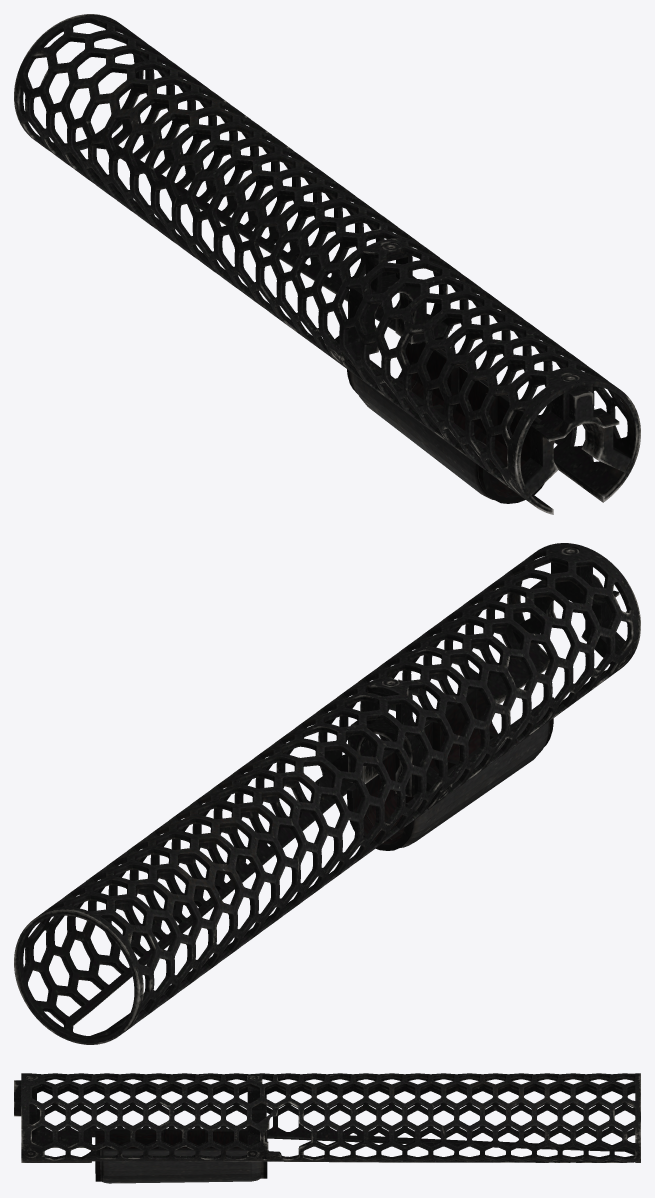
3 views of the same model, one above another, from view 1: azimuth 30°, elevation 25°; view 2: azimuth 150°, elevation 25°; view 3: azimuth 270°, elevation 25° (orthographic). The views are drawn at different scales.
Parts seen in each view (by area): view 1: TW_5b800e9286f7747a8b04f3ff_PZ_Import; view 2: TW_5b800e9286f7747a8b04f3ff_PZ_Import; view 3: TW_5b800e9286f7747a8b04f3ff_PZ_Import.
Boxes of the visible parts, x1,y1,x2,y2 form: TW_5b800e9286f7747a8b04f3ff_PZ_Import: [14, 14, 640, 514]; TW_5b800e9286f7747a8b04f3ff_PZ_Import: [14, 543, 640, 1044]; TW_5b800e9286f7747a8b04f3ff_PZ_Import: [14, 1073, 640, 1183].
Bounding box in the file's own units: 0.033 × 0.2314 × 0.042.
1 material, 1 textured.
